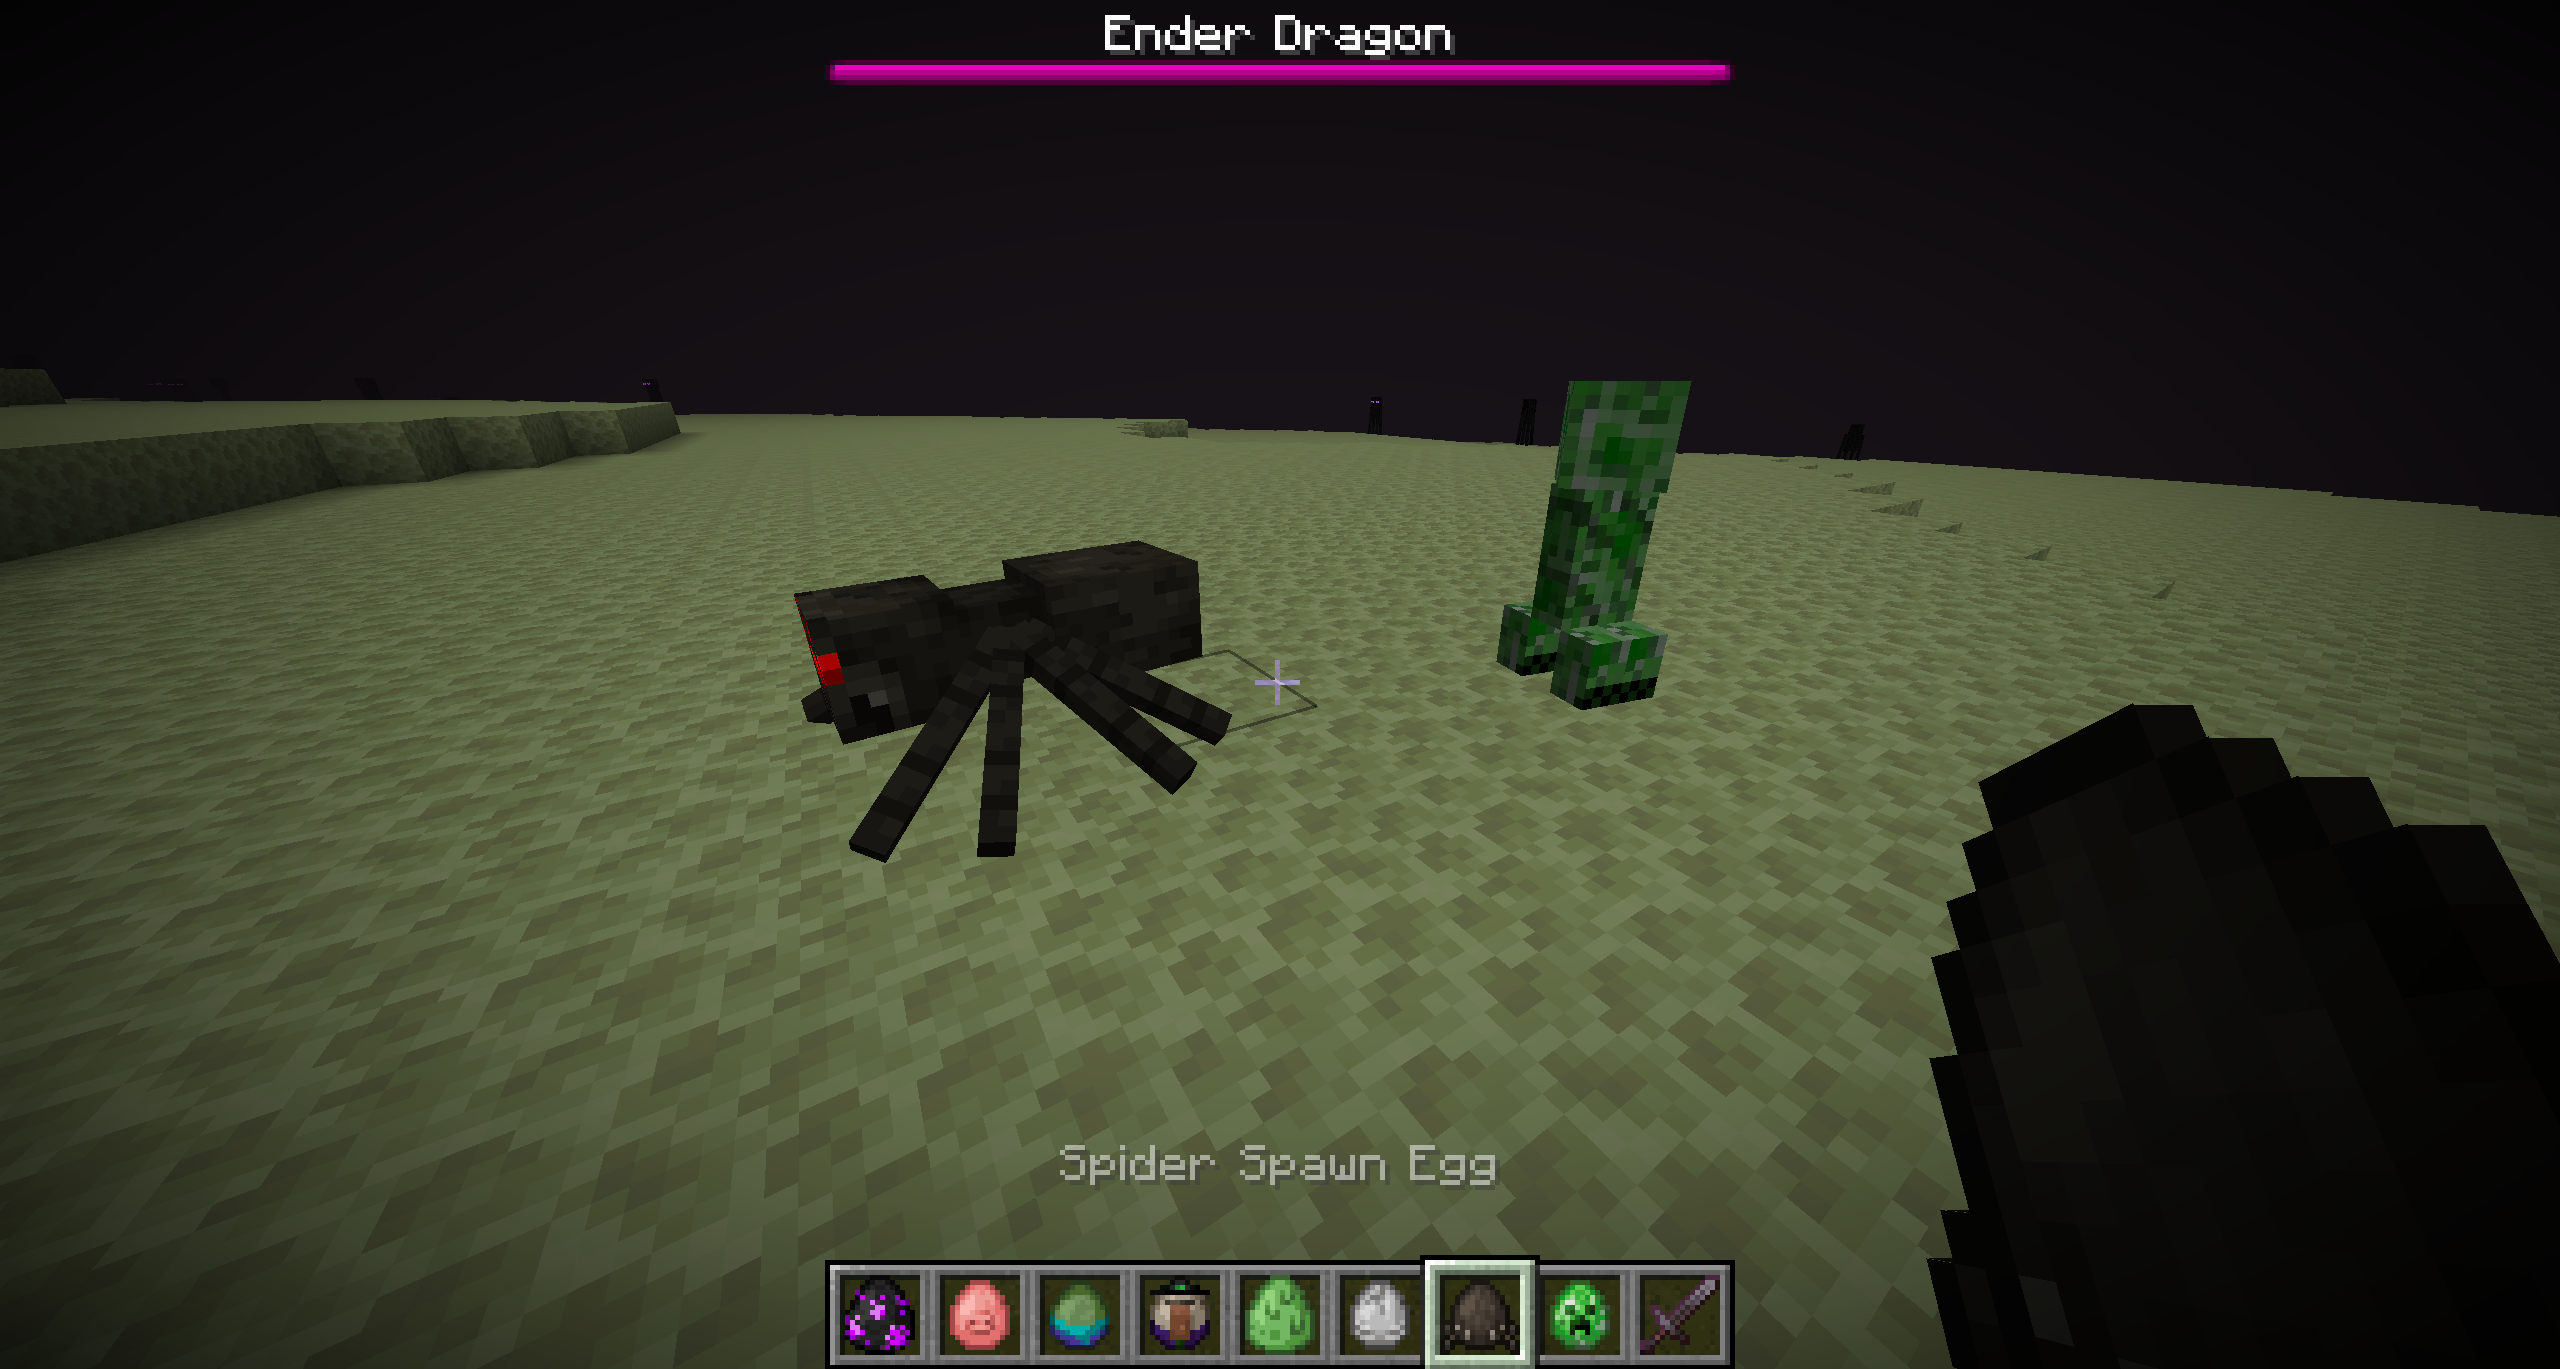araignees: (755, 540, 1224, 848)
creepers: (1527, 362, 1691, 704)
